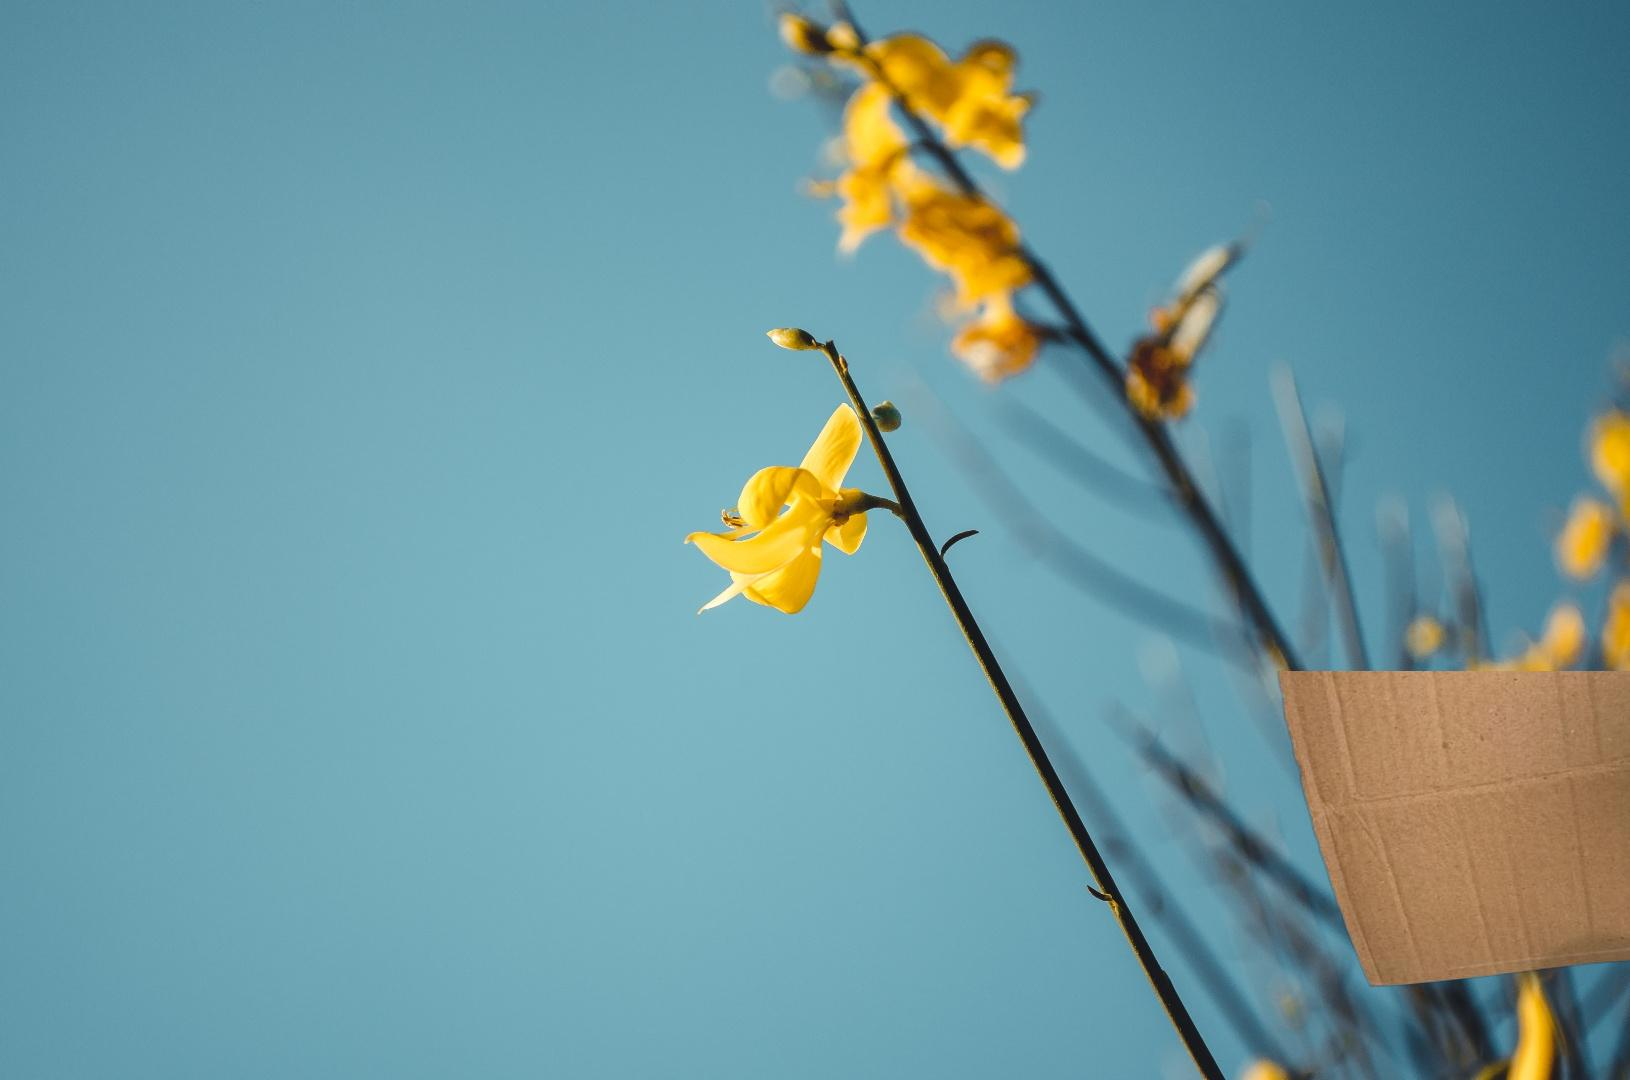trashbox-cardboard: (1266, 671, 1630, 990)
